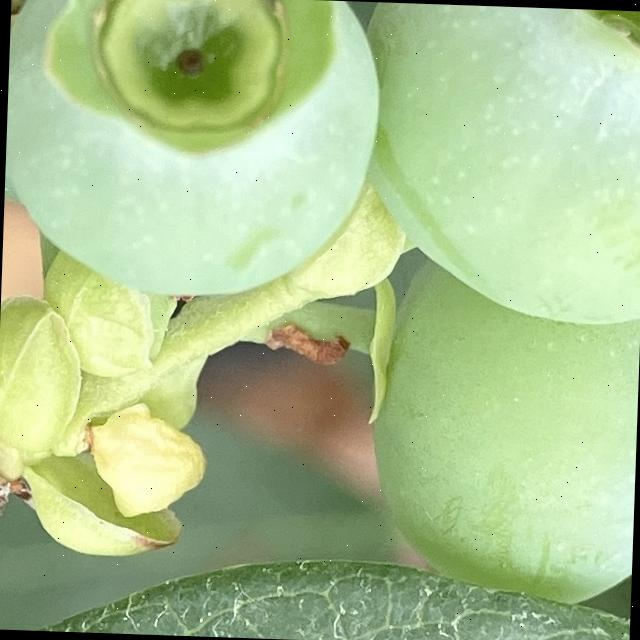Blueberries: (361, 1, 640, 333)
